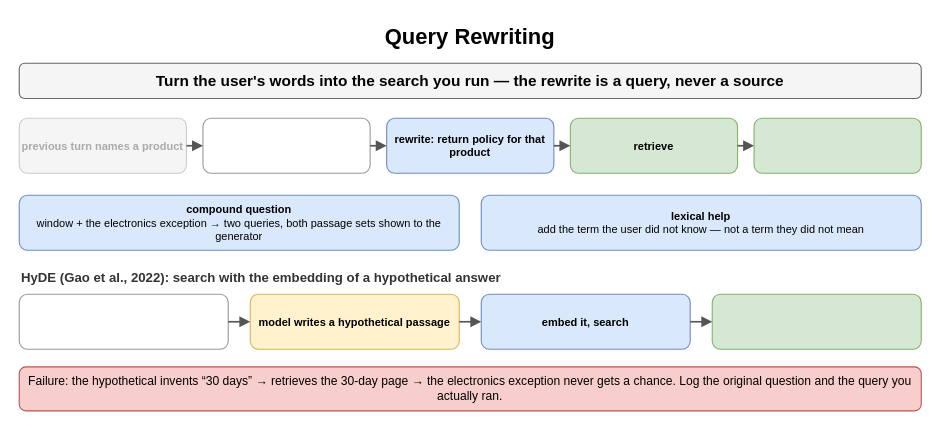
The diagram is 941 pixels wide and 430 high, and some of its shapes have lost their labels. The centre of each missing label's shape, as x and y in pixels:
"answer from passages" goes at (x=837, y=145).
"discard the hypothetical; use what came back" goes at (x=816, y=321).
"vague question" goes at (x=123, y=321).
"“what about returns?” (Notion thread)" goes at (x=286, y=145).
